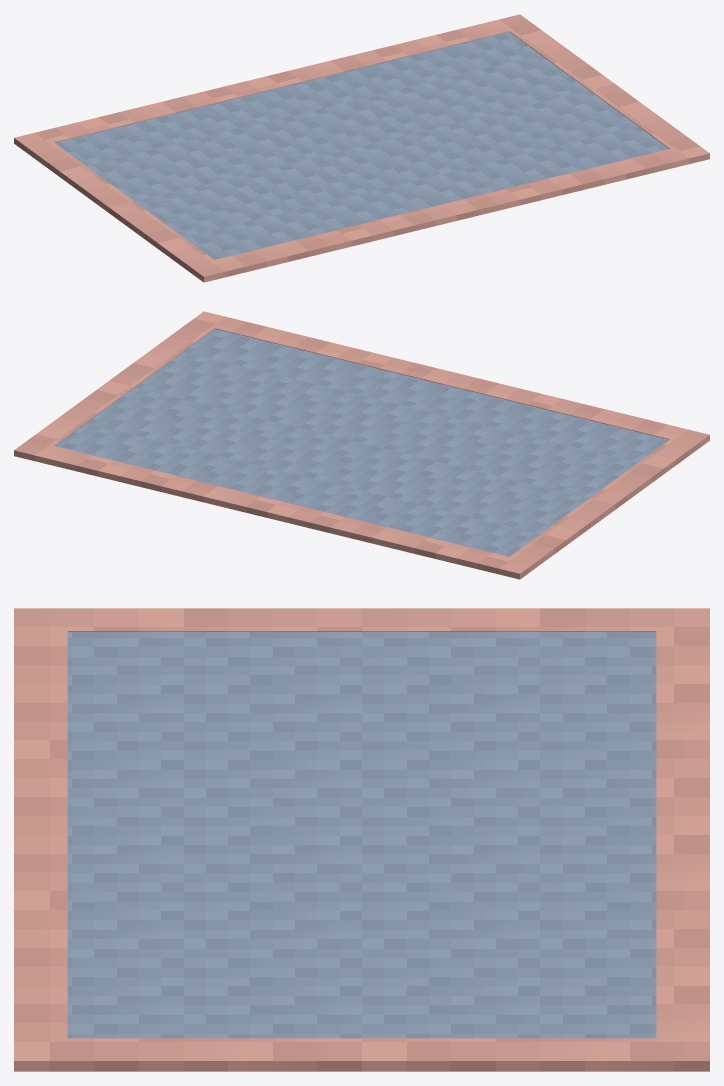
The model's file is pixel-modern-office-rug-d61e881e.glb.
3 views of the same model, one above another, from view 1: azimuth 30°, elevation 25°; view 2: azimuth 150°, elevation 25°; view 3: azimuth 270°, elevation 25° (orthographic). The views are drawn at different scales.
Parts seen in each view (by area): view 1: rug; view 2: rug; view 3: rug.
Boxes of the visible parts, <box> form: rug: <box>14,14,709,282</box>; rug: <box>14,311,709,579</box>; rug: <box>14,608,709,1071</box>.
Size of the model in its own units: 2 by 0.022 by 1.3.
Materials: 2 (2 with a texture image).
